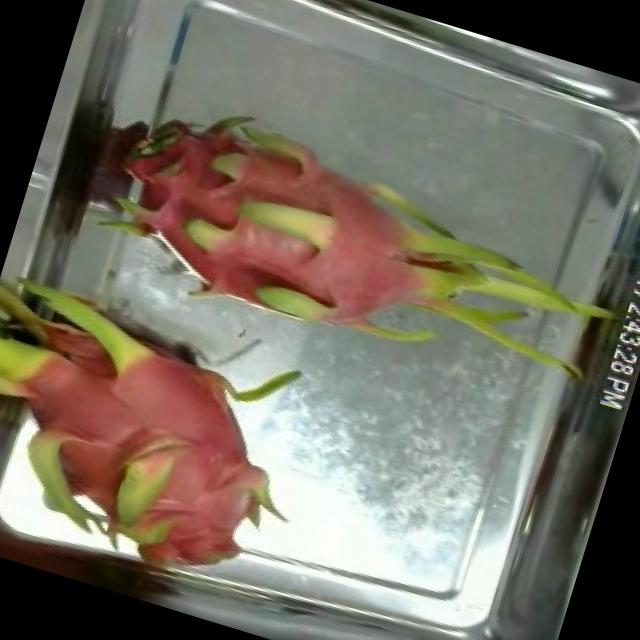Fruit: (78, 371, 306, 595)
